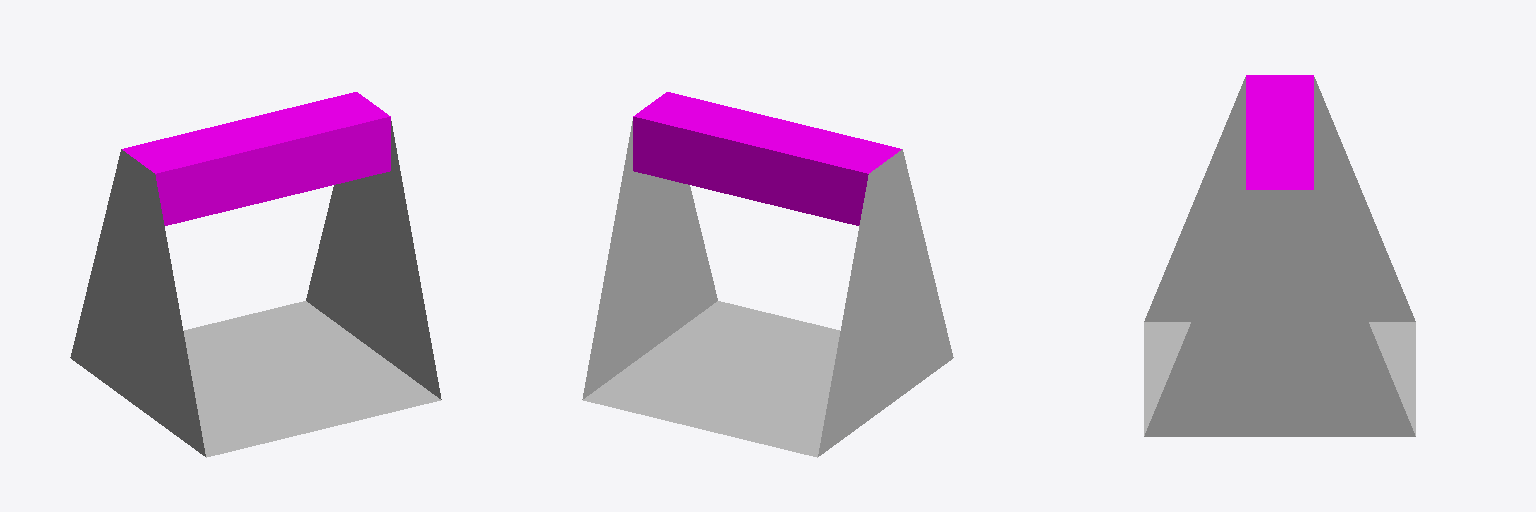
The model's file is laserstand.obj.
3 views of the same model, side by side, from view 1: azimuth 30°, elevation 25°; view 2: azimuth 150°, elevation 25°; view 3: azimuth 270°, elevation 25° (orthographic).
Parts seen in each view (by area): view 1: Cube; view 2: Cube; view 3: Cube.
Part boxes in pixels (x1,y1,x2,y2): Cube: (70,92,441,457); Cube: (582,92,953,457); Cube: (1144,75,1415,436).
Bounding box in the file's own units: 2 × 2 × 2.